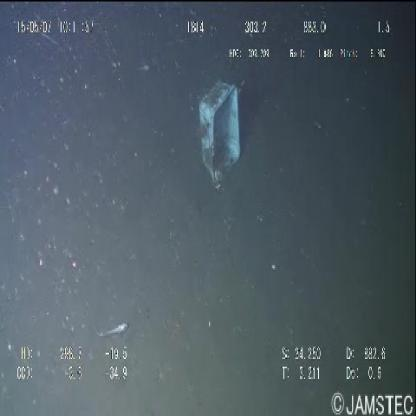Rác: (198, 82, 242, 187)
